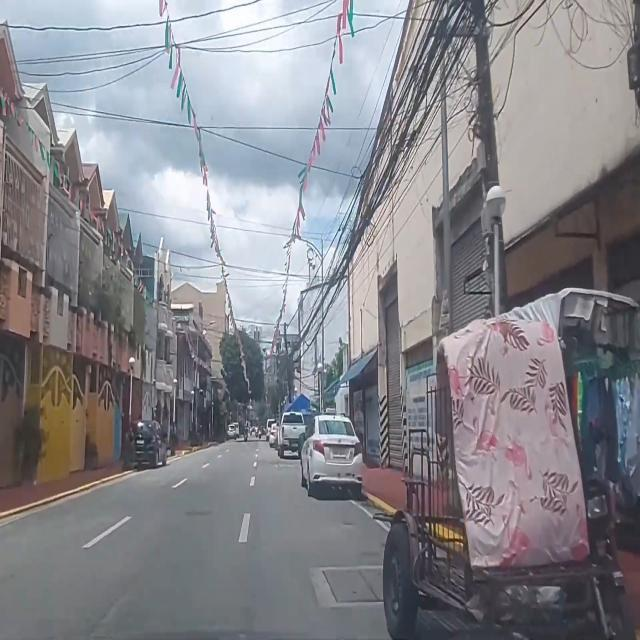car: (300, 414, 362, 497), (132, 420, 166, 468), (276, 412, 306, 458), (270, 422, 280, 448), (266, 418, 276, 442), (227, 423, 237, 440)
motorcycle: (243, 423, 248, 442), (258, 426, 262, 440), (254, 426, 258, 438)
tricycle: (382, 288, 640, 640)
